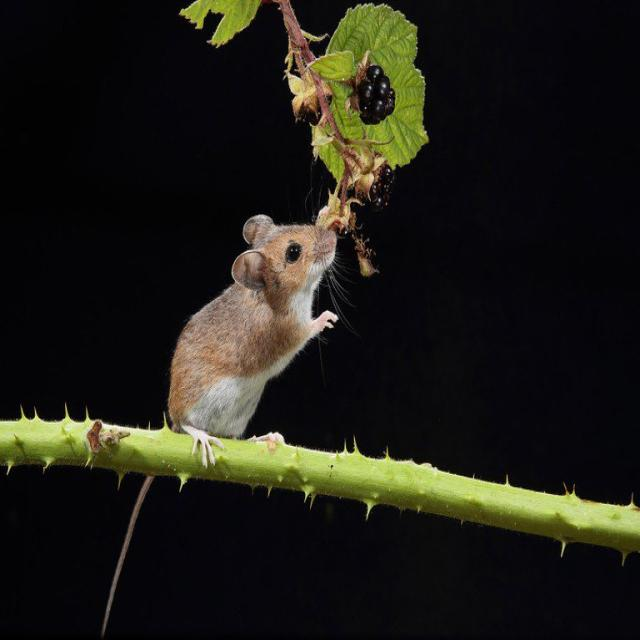Mouse: (166, 217, 339, 448)
